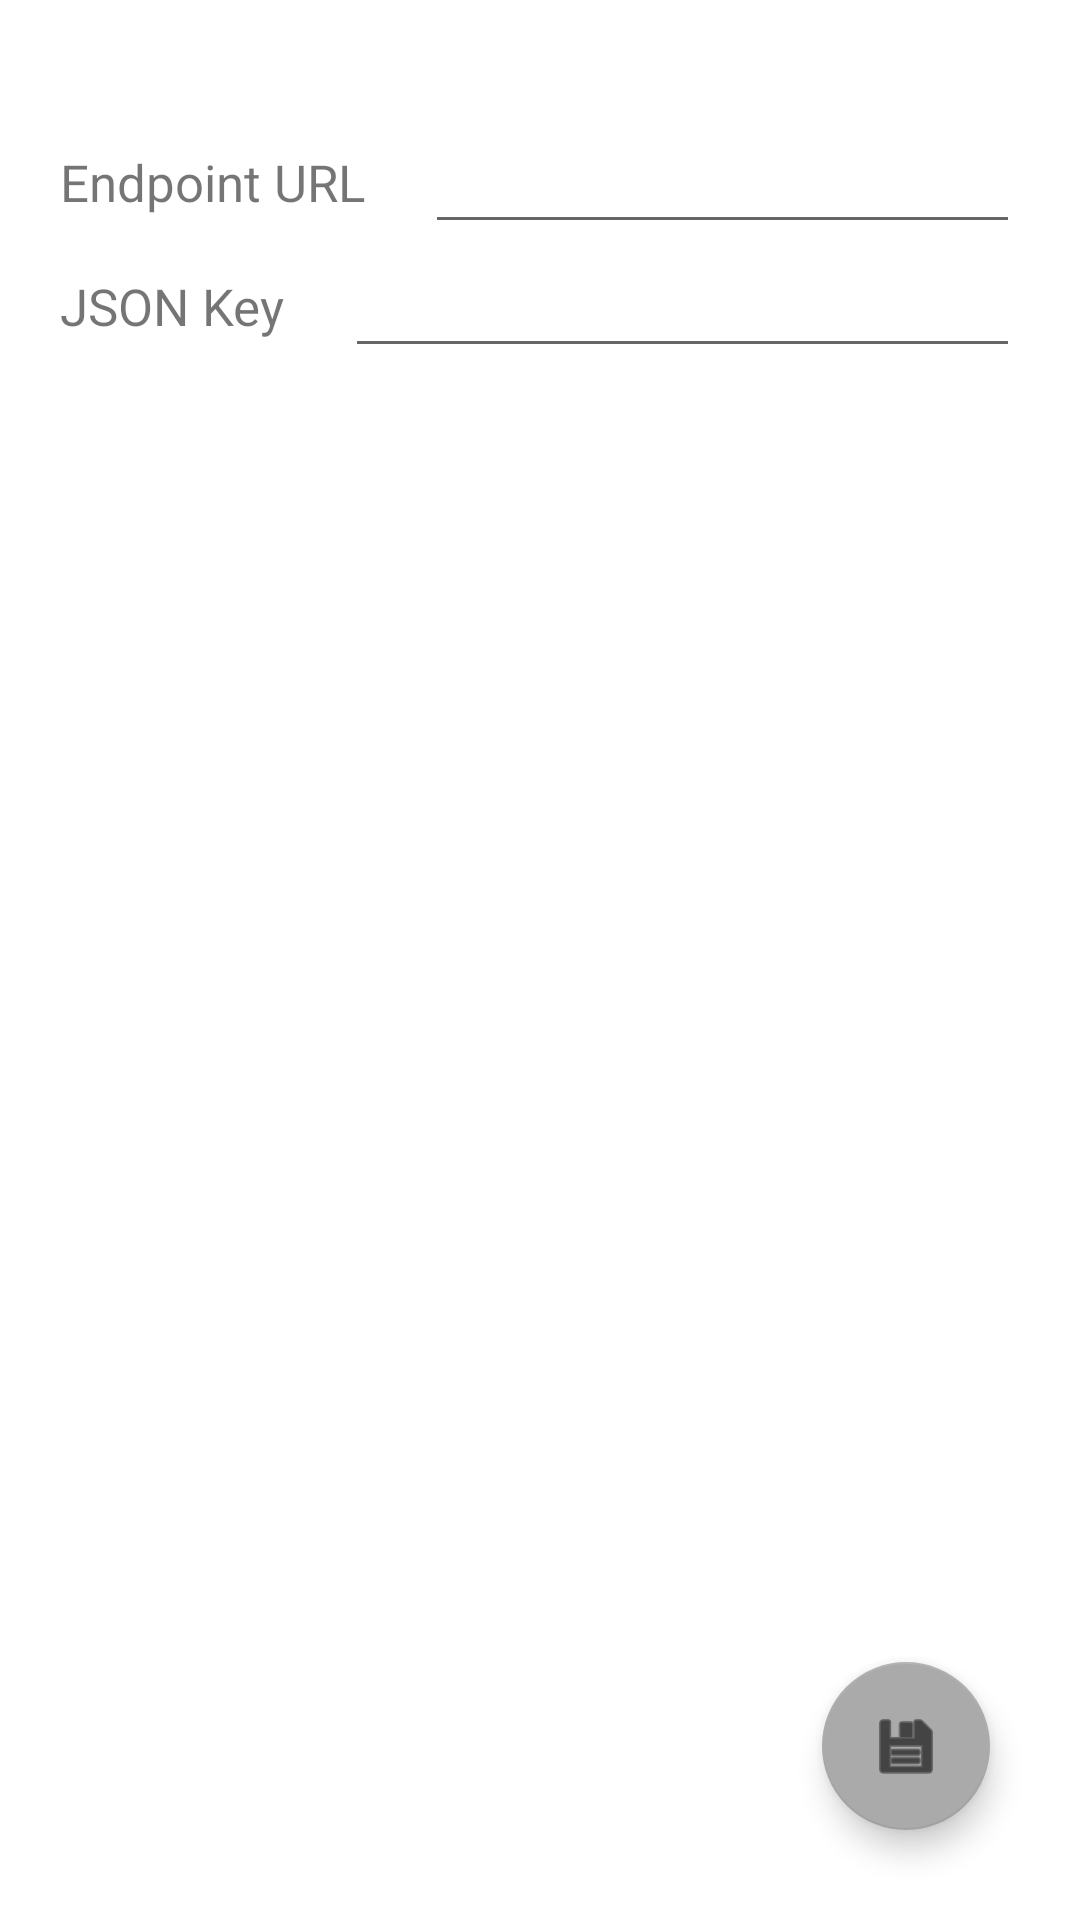

Where to tap for icons on this 1080*1920 app screen, as (x=x, y=y):
Save settings: (x=906, y=1746)
